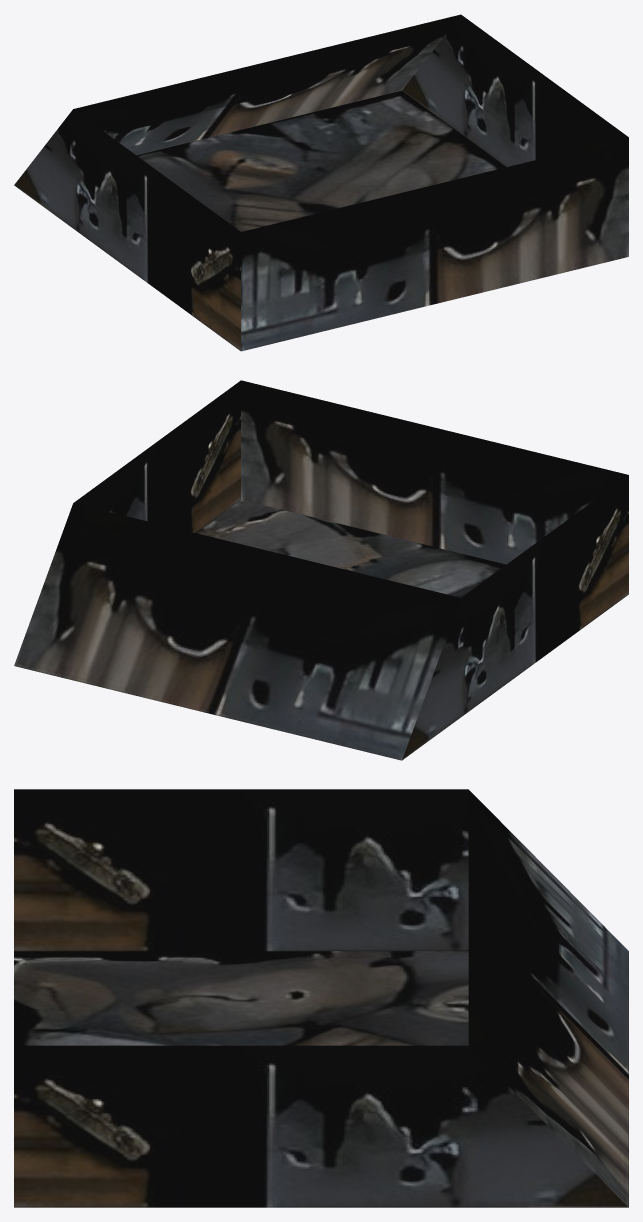
File: crashshanty2_dam_hdtex.glb
The picture shows the model from 3 angles, top to bottom: view 1: azimuth 30°, elevation 25°; view 2: azimuth 150°, elevation 25°; view 3: azimuth 270°, elevation 25°; orthographic projection. The views are drawn at different scales.
Visible parts, largest first — view 1: CrashShanty; view 2: CrashShanty; view 3: CrashShanty.
Part boxes in pixels (x1,y1,x2,y2): CrashShanty: (14,14,628,351); CrashShanty: (14,380,628,760); CrashShanty: (14,789,628,1207).
Size of the model in its own units: 4.98 by 1.46 by 5.05.
Materials: 1 (1 with a texture image).
